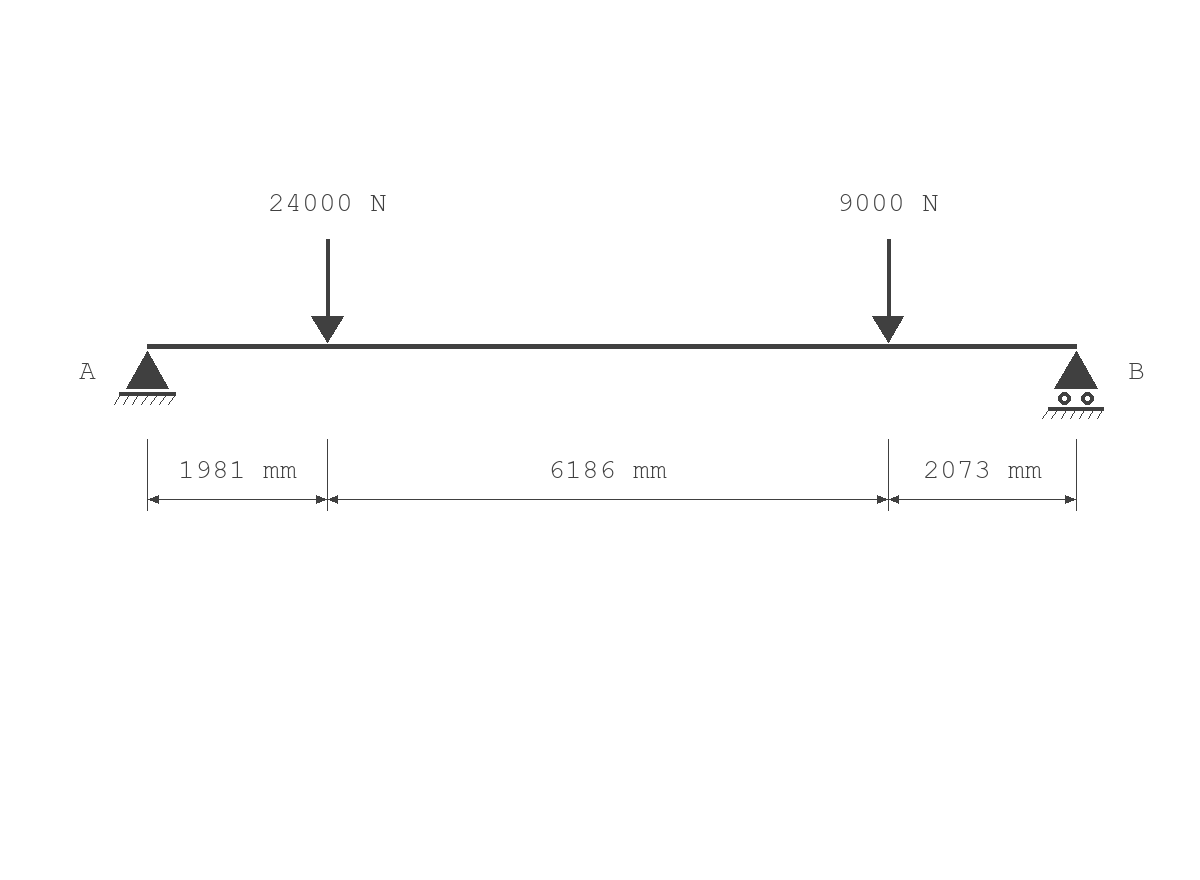pin_support: (114, 351, 176, 405)
point_load: (311, 239, 344, 343), (872, 239, 904, 343)
roller_support: (1042, 351, 1104, 419)
